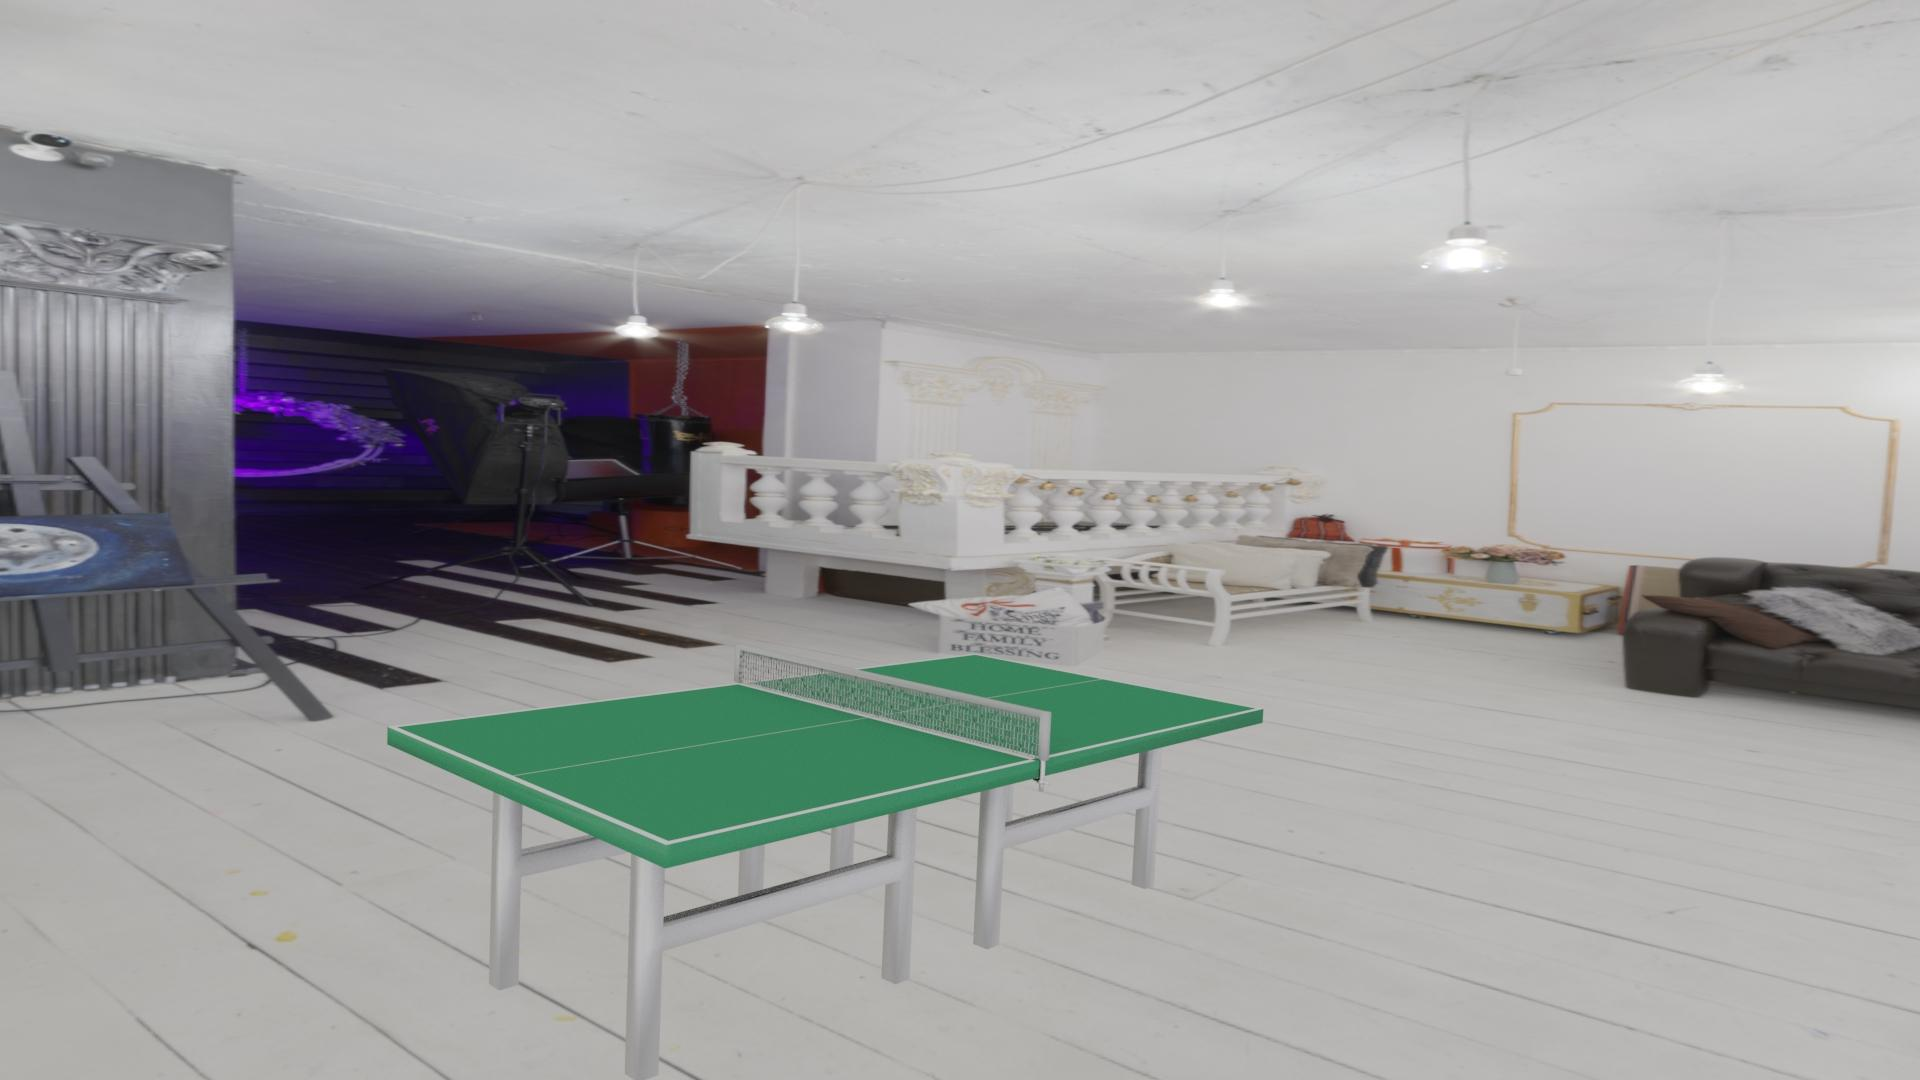table: (397, 654, 1257, 841)
